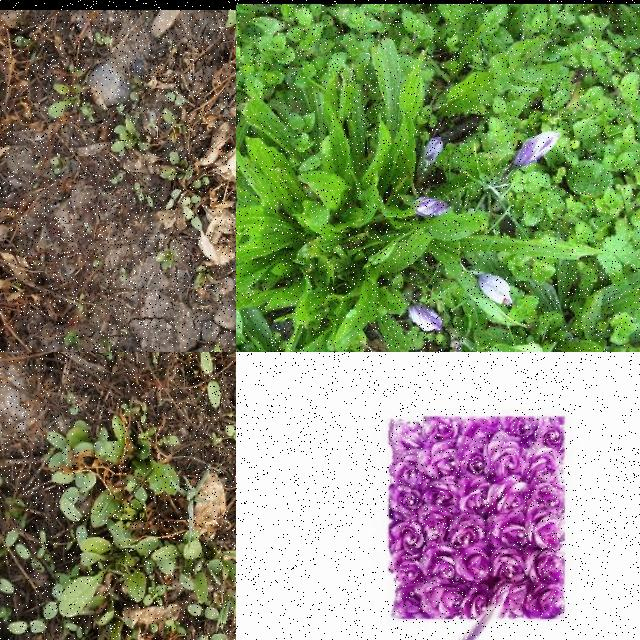flower: (514, 131, 560, 169), (478, 274, 514, 306), (408, 304, 444, 332), (414, 198, 450, 216), (423, 137, 443, 163)
